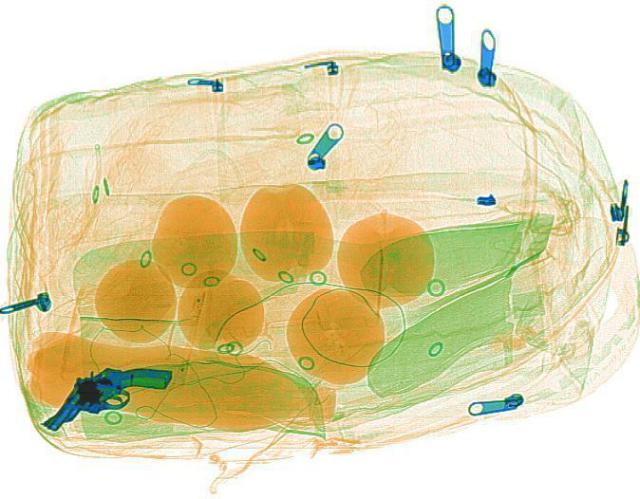Gun: (20, 343, 176, 440)
